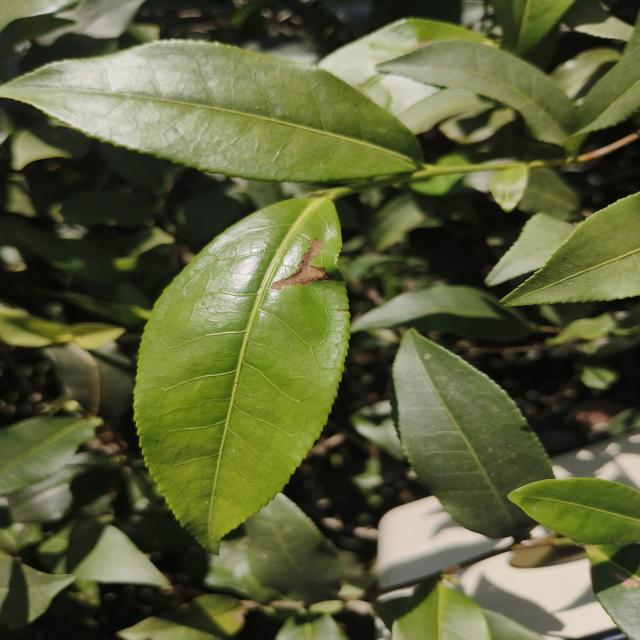Leaf: (134, 199, 349, 551), (0, 39, 422, 182), (393, 329, 553, 538), (377, 40, 575, 145), (318, 18, 485, 118), (501, 193, 640, 306), (244, 493, 346, 603), (352, 285, 530, 340), (38, 518, 170, 586), (508, 478, 640, 545), (0, 416, 101, 495), (6, 452, 118, 523), (485, 213, 574, 287), (574, 40, 640, 134), (392, 579, 491, 640), (117, 594, 245, 640), (0, 551, 74, 630), (11, 124, 89, 170), (518, 168, 579, 221), (0, 310, 66, 347), (490, 163, 529, 212), (70, 323, 125, 349)
